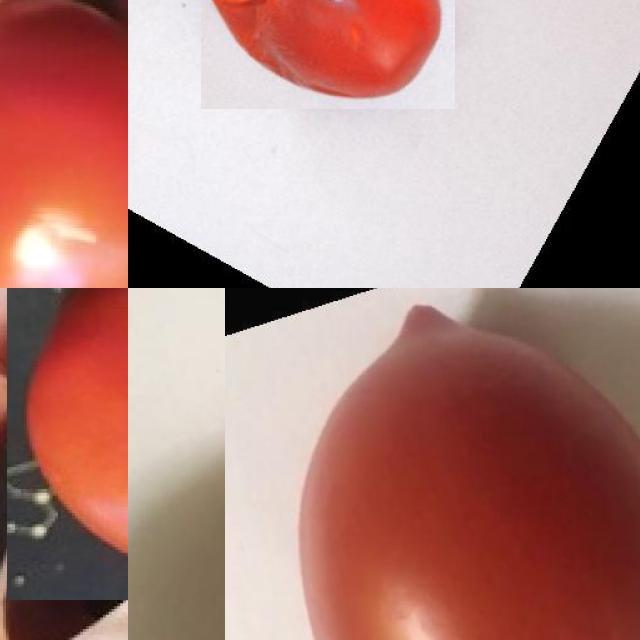Fresh Tomato: (225, 288, 640, 640), (7, 288, 128, 599), (0, 0, 128, 288)
Rotten Tomato: (201, 0, 454, 109)
